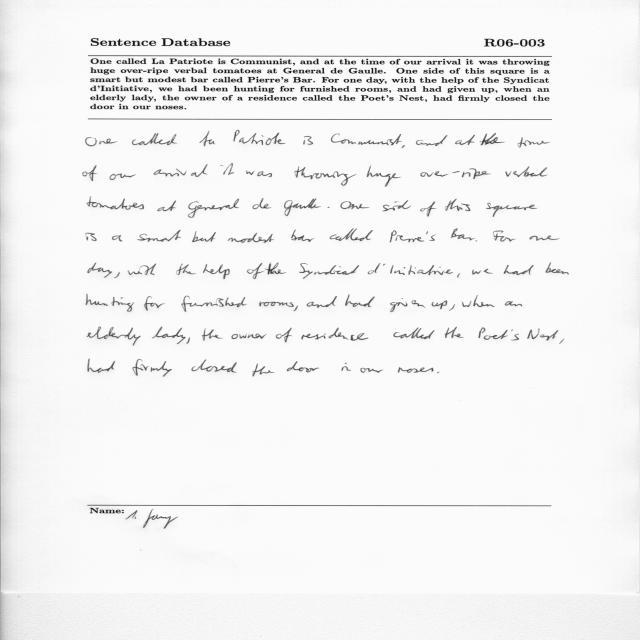word: (295, 166, 357, 186), (181, 295, 247, 312), (87, 327, 141, 346), (368, 263, 453, 275), (188, 199, 239, 218), (86, 294, 134, 312), (233, 130, 286, 145), (331, 134, 402, 145), (420, 168, 491, 179), (87, 197, 144, 210), (132, 359, 172, 377), (367, 166, 401, 187), (486, 203, 537, 217), (154, 164, 208, 177), (284, 199, 321, 216), (247, 263, 286, 279), (390, 230, 436, 243), (191, 360, 237, 373), (152, 327, 186, 344), (132, 133, 177, 145), (479, 328, 520, 341), (137, 230, 181, 242), (329, 328, 369, 341), (330, 229, 373, 241), (390, 298, 425, 312), (506, 166, 548, 177), (393, 328, 435, 339), (228, 233, 274, 243), (314, 265, 359, 275), (203, 264, 230, 279), (528, 328, 559, 341), (462, 295, 495, 307), (345, 294, 375, 307), (88, 359, 115, 373), (287, 362, 320, 373), (88, 263, 112, 278), (307, 296, 337, 308), (518, 137, 550, 148), (416, 135, 447, 146), (144, 296, 165, 311), (545, 262, 569, 275), (383, 201, 411, 212), (128, 264, 156, 275), (480, 133, 505, 145), (445, 199, 470, 211), (504, 265, 534, 275), (291, 229, 314, 242), (86, 138, 118, 147), (253, 364, 275, 377), (451, 229, 476, 240), (202, 328, 223, 341), (192, 231, 216, 242), (493, 231, 515, 242), (199, 131, 215, 146), (420, 202, 436, 217), (276, 328, 292, 343), (341, 202, 370, 210), (83, 165, 97, 181), (299, 263, 313, 279), (177, 264, 197, 275), (398, 367, 433, 373), (157, 201, 176, 212), (252, 198, 271, 209), (445, 327, 464, 338), (455, 135, 475, 145), (110, 173, 136, 180), (231, 334, 267, 339), (259, 302, 294, 307), (220, 163, 234, 175), (246, 171, 272, 177), (530, 236, 560, 241), (301, 334, 326, 340), (432, 300, 447, 309), (472, 269, 493, 275), (361, 368, 384, 373), (303, 136, 313, 145), (86, 233, 97, 241), (505, 301, 522, 306), (341, 363, 351, 371), (112, 235, 123, 241), (449, 304, 455, 311), (114, 272, 120, 278), (293, 306, 298, 312), (186, 337, 190, 344), (560, 339, 565, 344), (458, 273, 461, 278), (402, 145, 405, 148), (327, 207, 330, 208), (437, 372, 439, 373), (476, 241, 477, 242)
